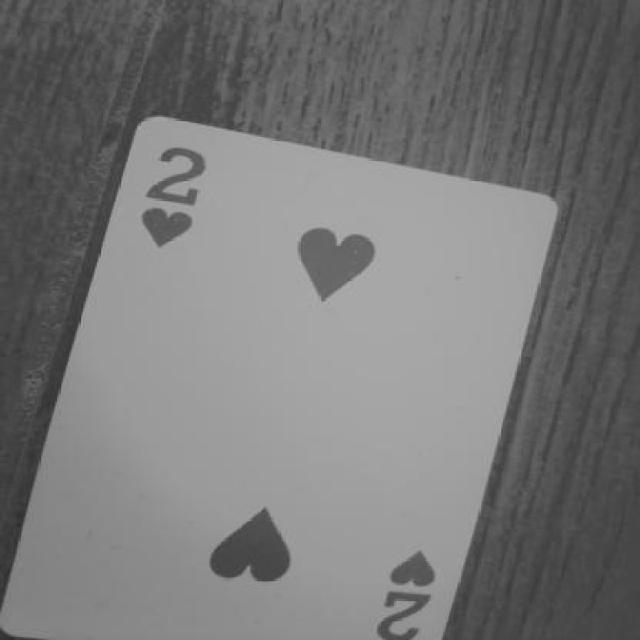2H: (135, 140, 236, 272), (361, 512, 453, 640)
